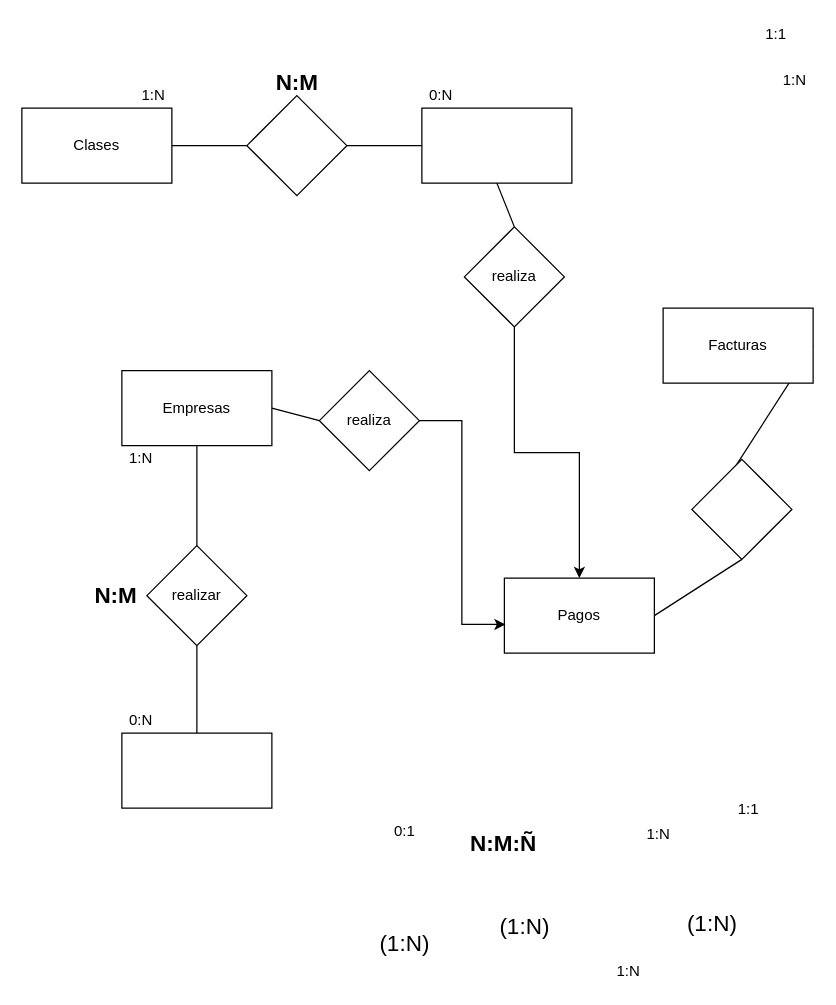
Image size: 836x1005. Some labels were removed from this diagram. The shapes that lost their labels are listed below. From the top down, each one's centre as x and y in pixels, then its label:
At point 296,145: "registro".
At point 496,145: "Alumnos".
At point 741,508: "registra".
At point 196,770: "Servicio".
